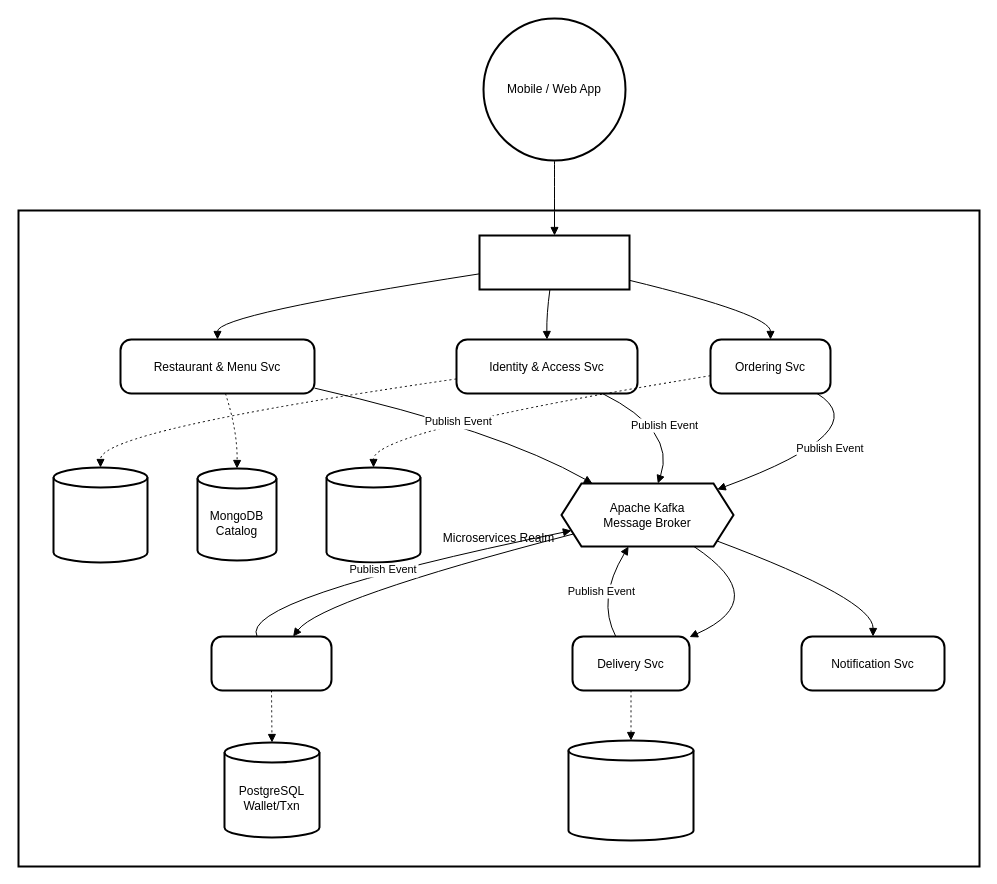
Some shapes in this 997 by 884 pixel diagram are drawn without their labels. The shapes that lost their labels are listed below. From the top down, each one's centre as x and y in pixels, then its label:
At point 554,262: "API Gateway".
At point 100,514: "PostgreSQL Auth".
At point 373,514: "PostgreSQL Order".
At point 271,663: "Payment Svc".
At point 630,790: "Redis/MongoDB Routing".
